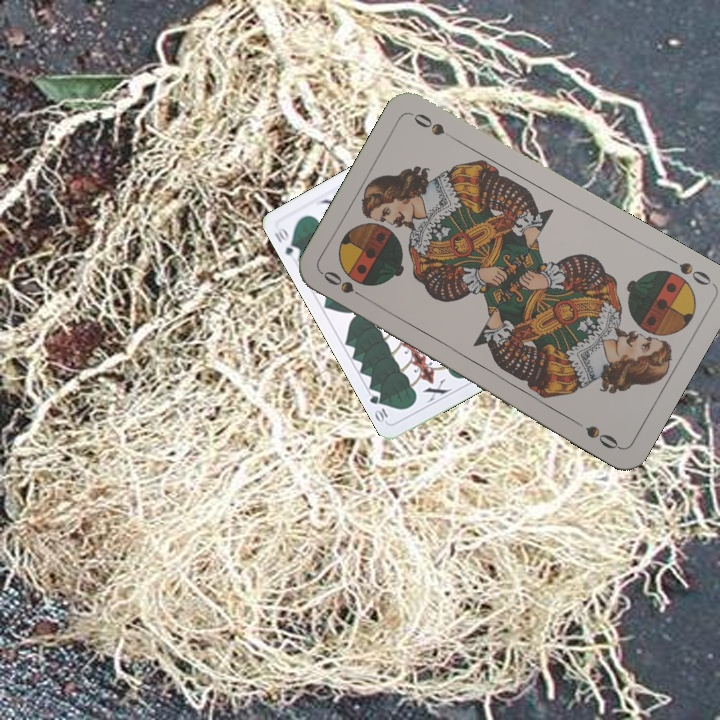G10: (270, 222, 303, 262)
SO: (319, 266, 373, 304), (662, 252, 714, 289)
